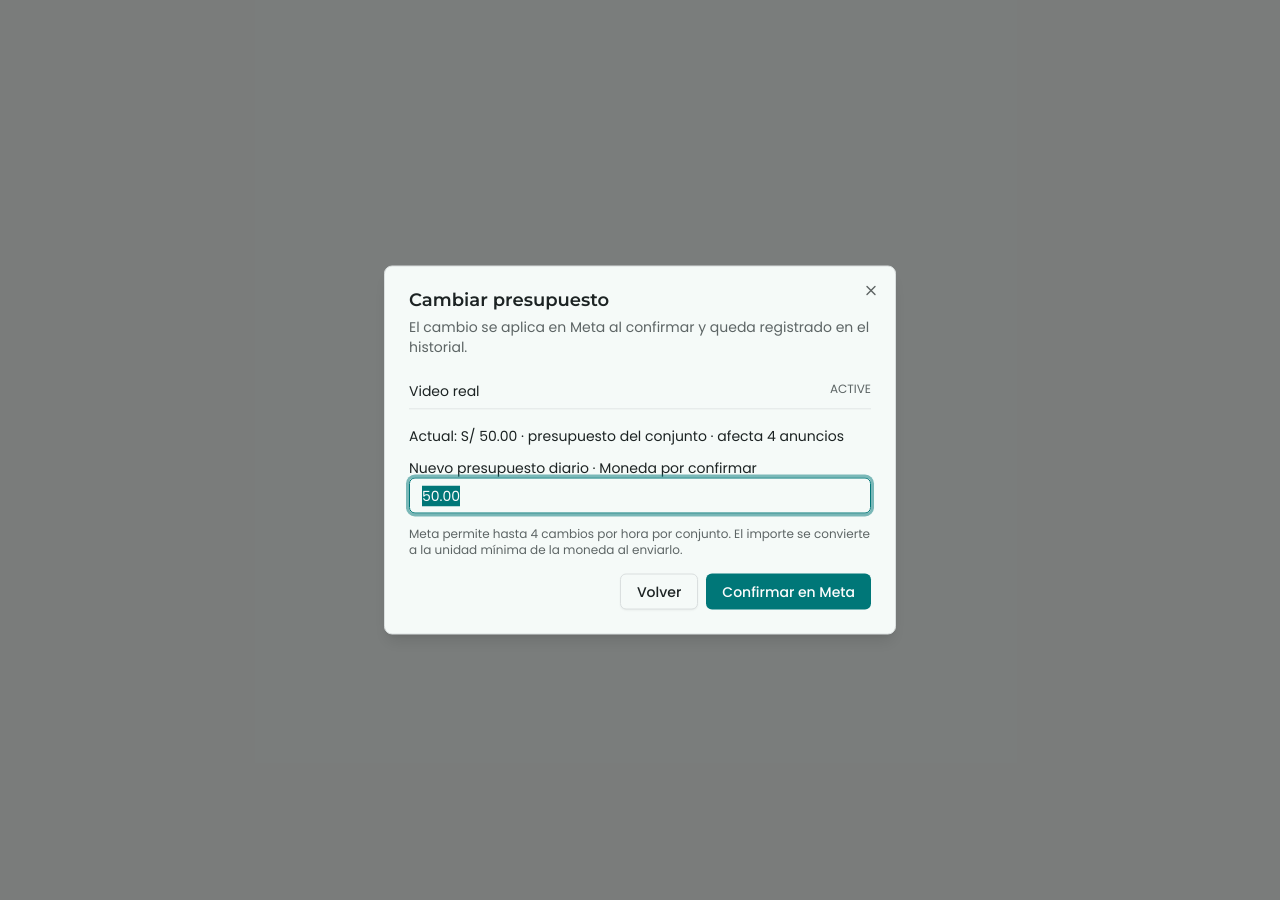
Test case: Meta actions require an explicit real mutation › rejects a negative budget and keeps provider failures visible
Replace the text in the number field labelled "Nuevo presupuesto diario" with "-10" at (640,496), box x1=409 y1=478 x2=871 y2=514
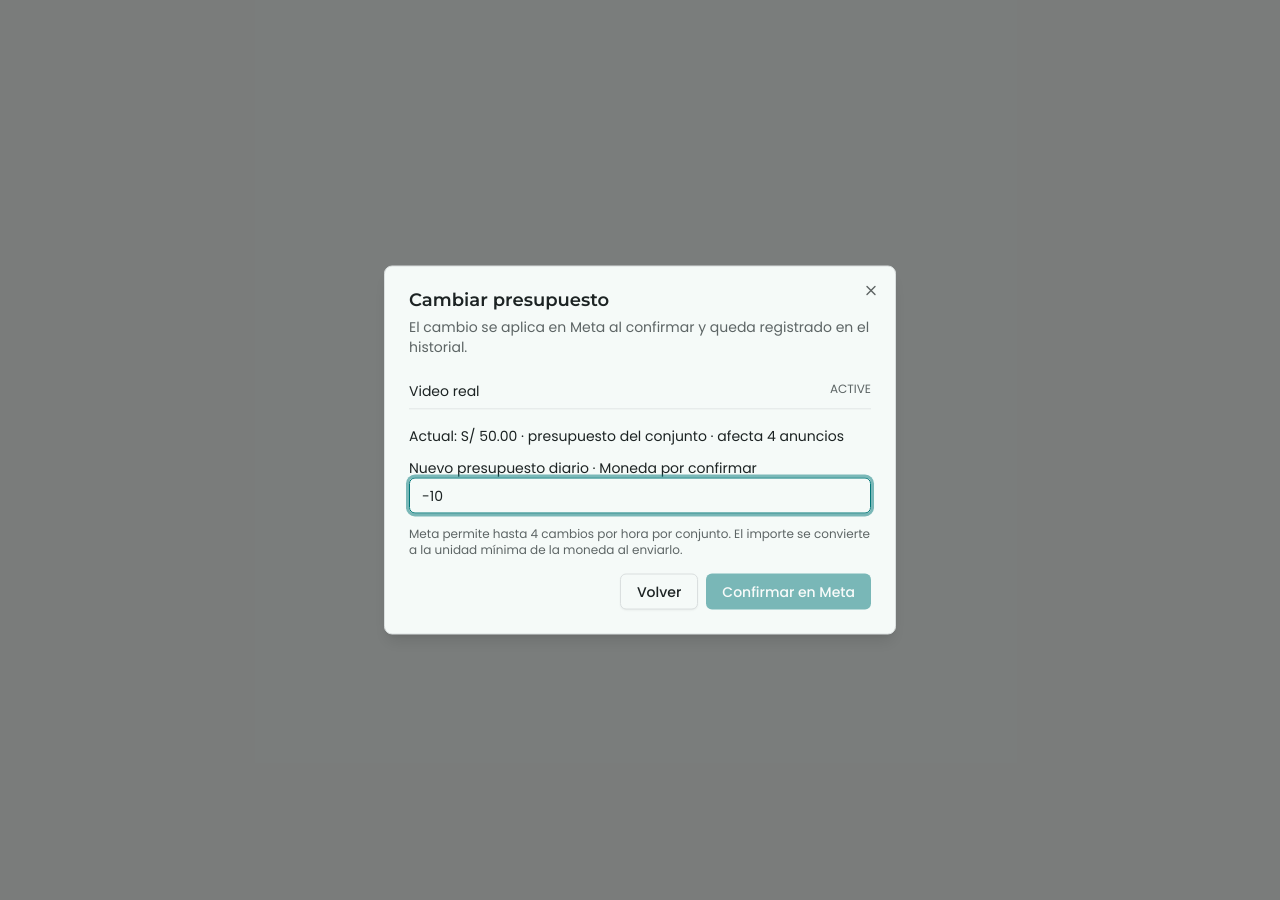
Expected: the button "Confirmar en Meta" is disabled, x1=706 y1=574 x2=871 y2=610
Replace the text in the number field labelled "Nuevo presupuesto diario" with "55" at (640,496), box x1=409 y1=478 x2=871 y2=514
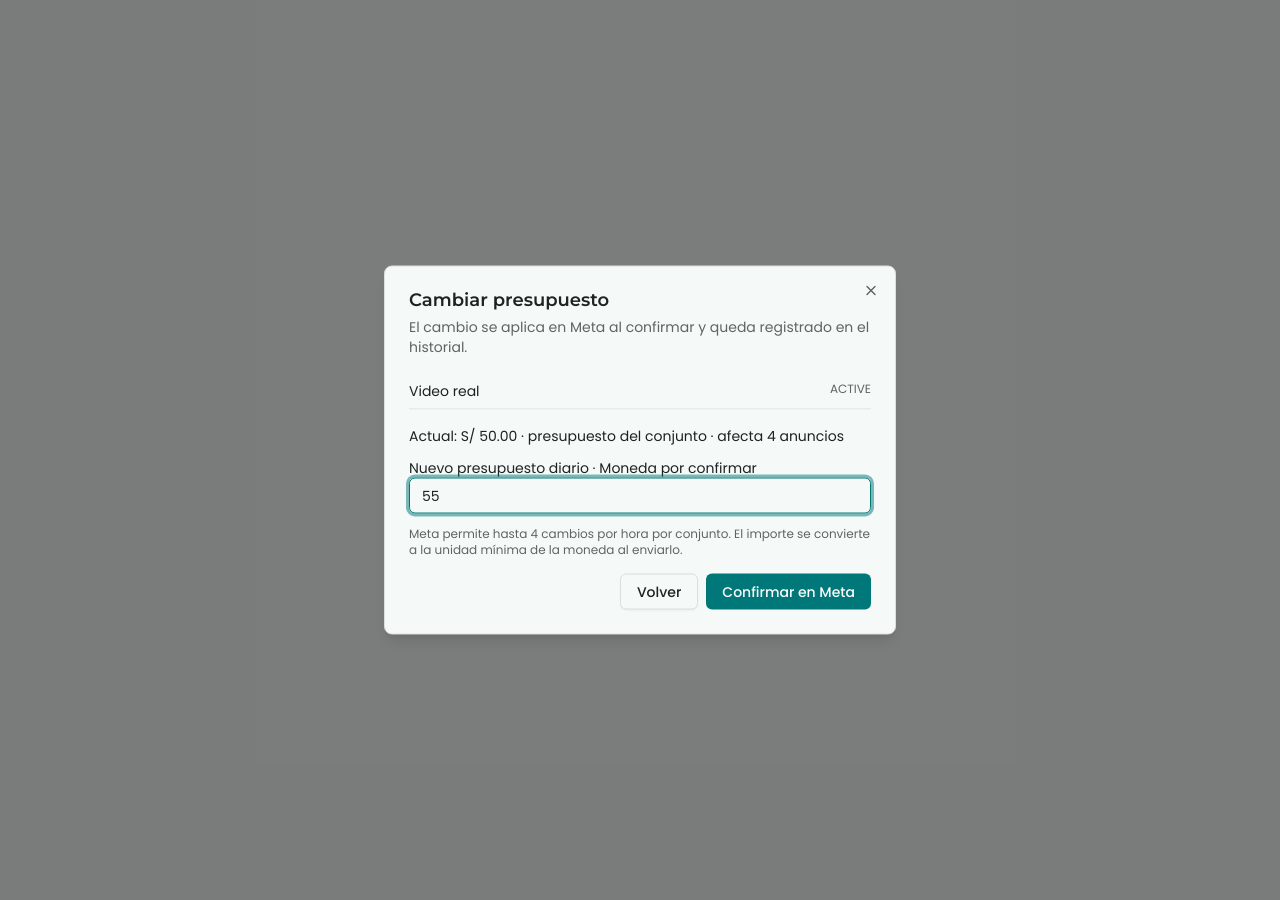
Click the button "Confirmar en Meta" at (789,592), box x1=706 y1=574 x2=871 y2=610
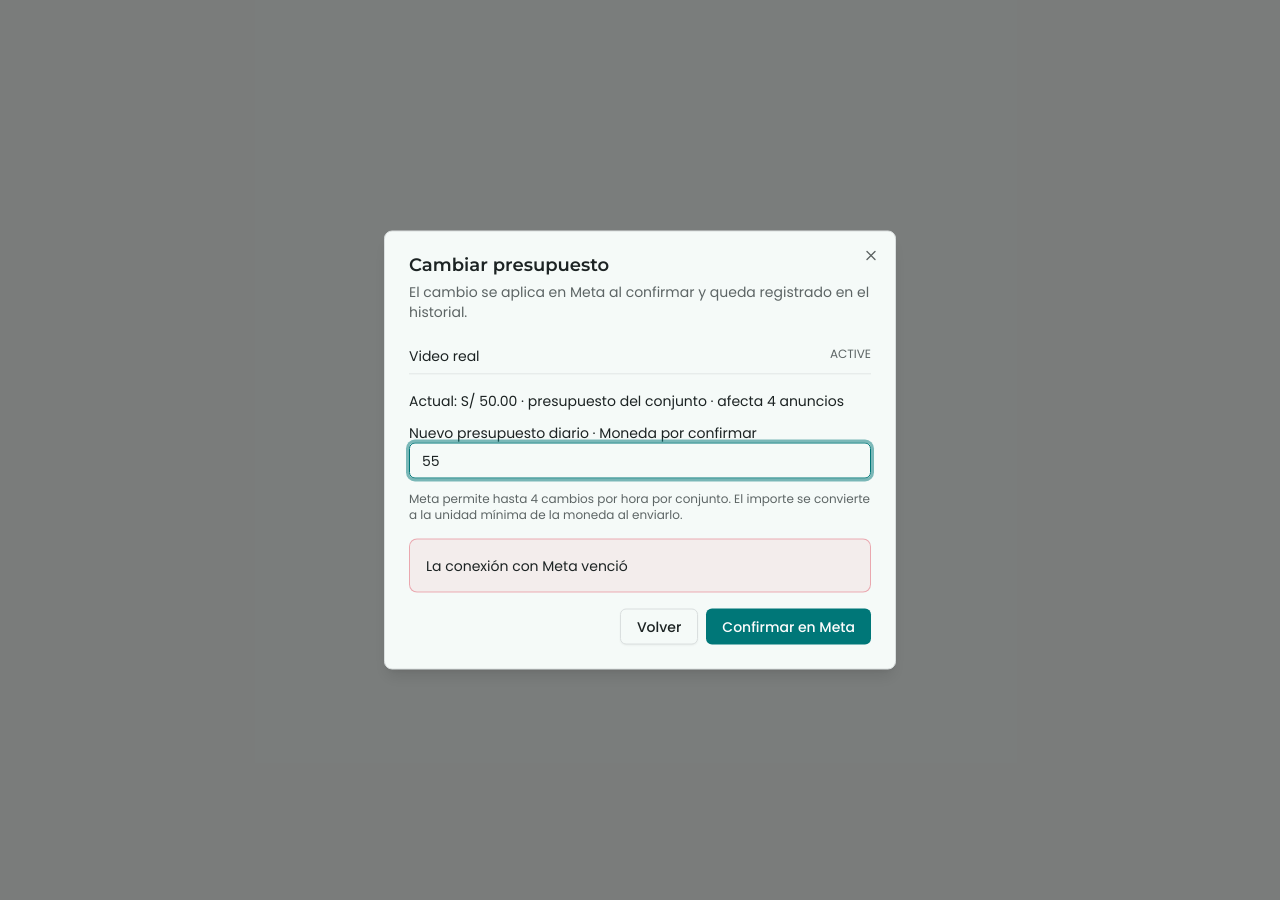
Expected: the message reads "La conexión con Meta venció", x1=426 y1=556 x2=628 y2=576
